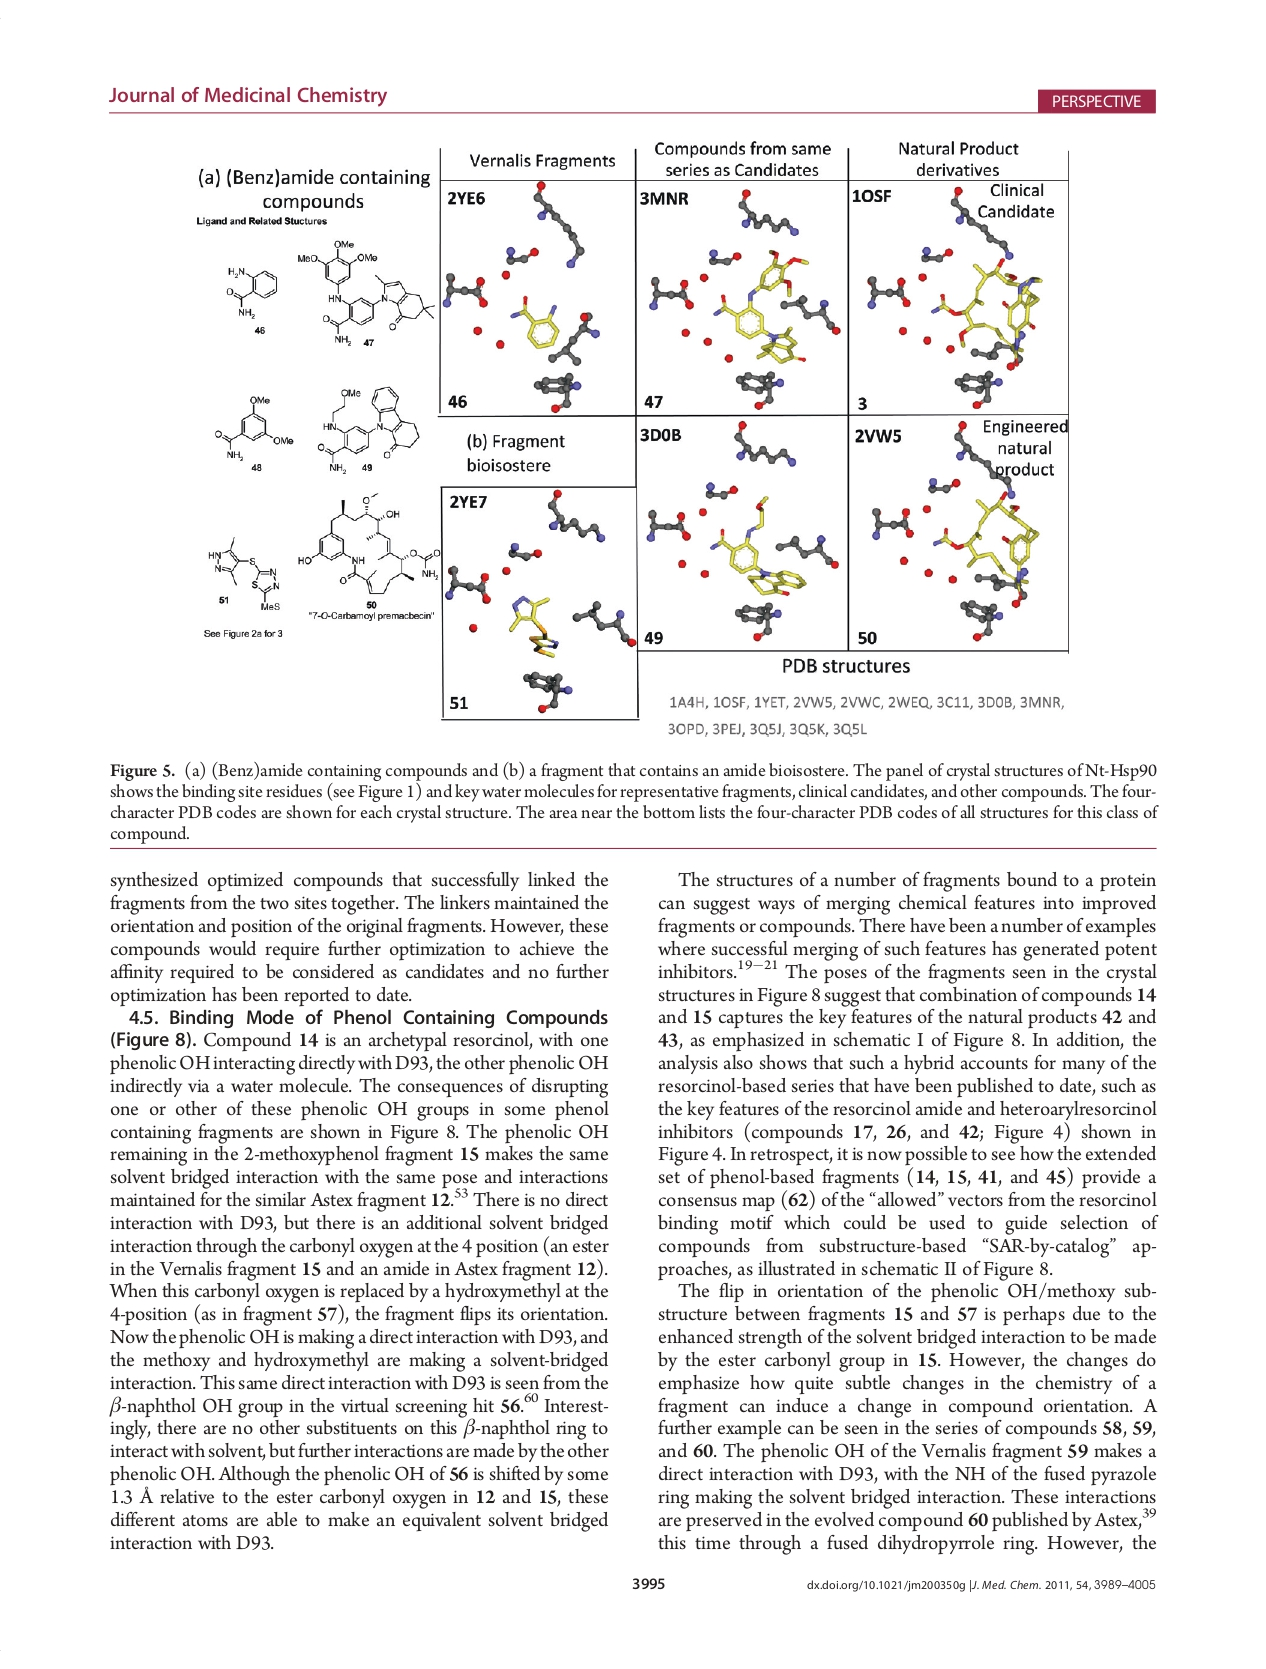exist_molecular: (295, 491, 442, 596), (297, 238, 435, 347), (315, 382, 422, 475), (206, 535, 283, 613), (211, 394, 295, 463), (223, 262, 279, 319)
